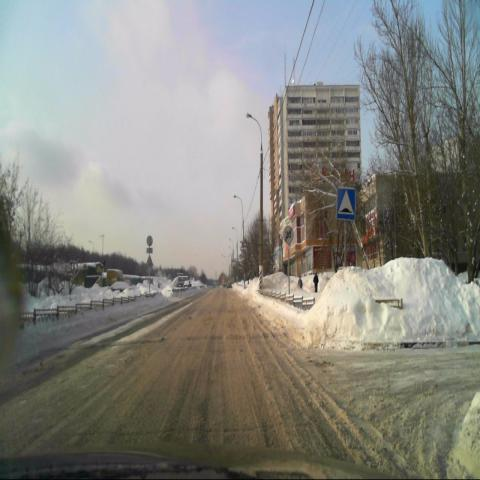3_25: (283, 224, 294, 244)
